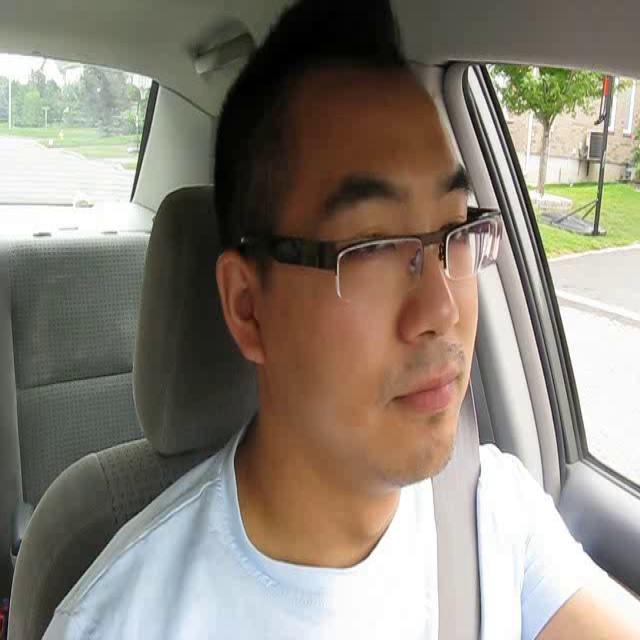close: (391, 364, 466, 413)
